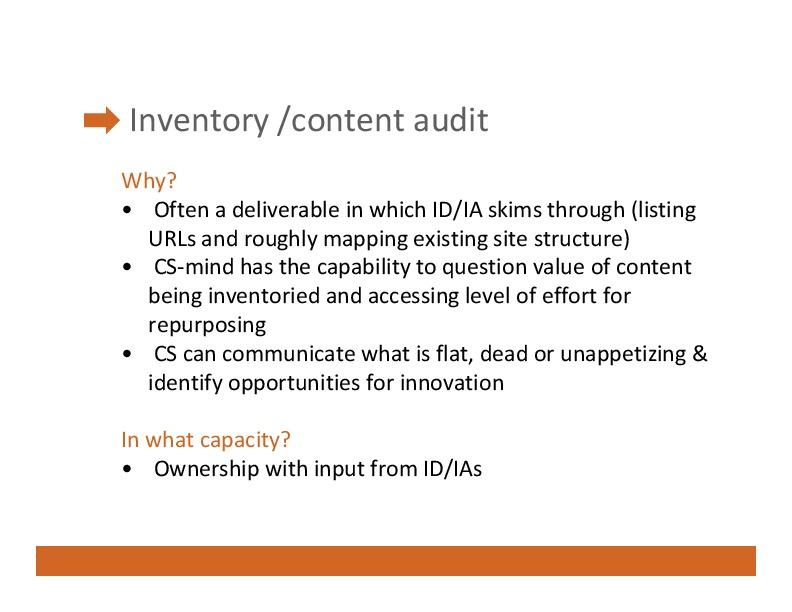paragraph: (113, 161, 729, 504)
title: (126, 99, 497, 143)
